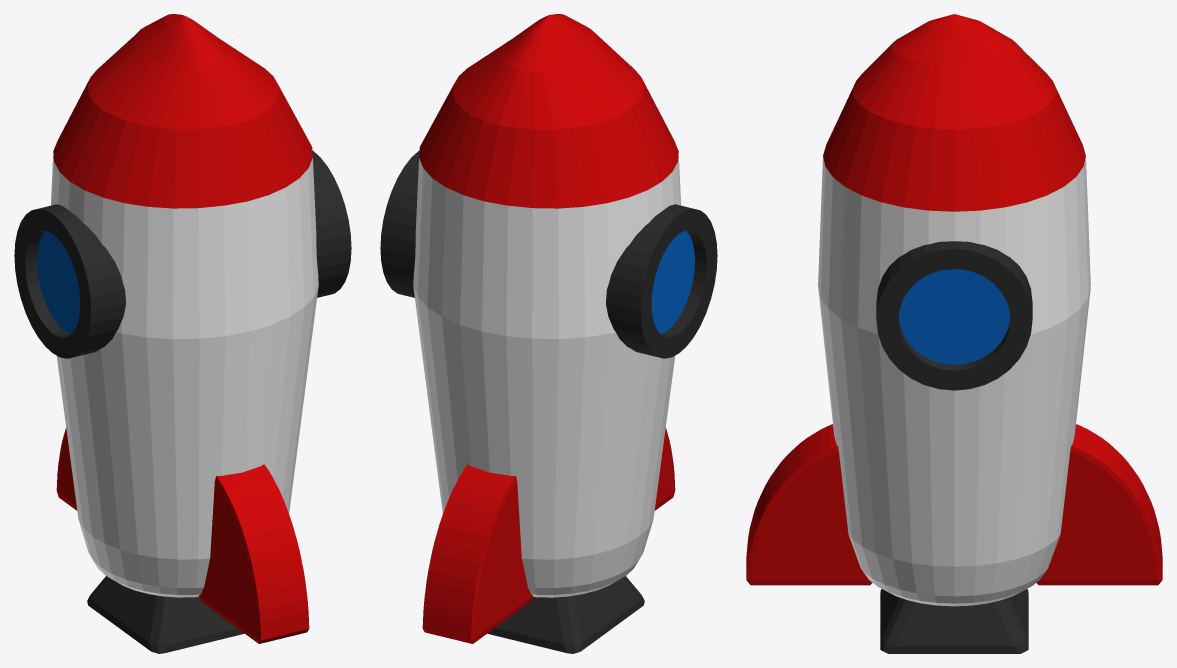
The model's file is Spaceship.obj.
3 views of the same model, side by side, from view 1: azimuth 30°, elevation 25°; view 2: azimuth 150°, elevation 25°; view 3: azimuth 270°, elevation 25° (orthographic).
Visible parts, largest first — view 1: Cylinder, Cylinder.002, Cylinder.001, Cube; view 2: Cylinder, Cylinder.002, Cylinder.001, Cube; view 3: Cylinder, Cylinder.001, Cylinder.002, Cube.
Boxes of the visible parts, box(x1,y1,x2,y2) form: Cylinder: box(50, 14, 318, 597); Cylinder.002: box(14, 150, 351, 358); Cylinder.001: box(56, 427, 309, 643); Cube: box(87, 576, 244, 653); Cylinder: box(413, 14, 681, 597); Cylinder.002: box(380, 150, 717, 358); Cylinder.001: box(422, 427, 675, 643); Cube: box(487, 576, 644, 653); Cylinder: box(818, 14, 1090, 606); Cylinder.001: box(746, 424, 1162, 585); Cylinder.002: box(876, 241, 1032, 390); Cube: box(880, 589, 1028, 653).
Bounding box in the file's own units: 1.11 × 2.46 × 1.51.
